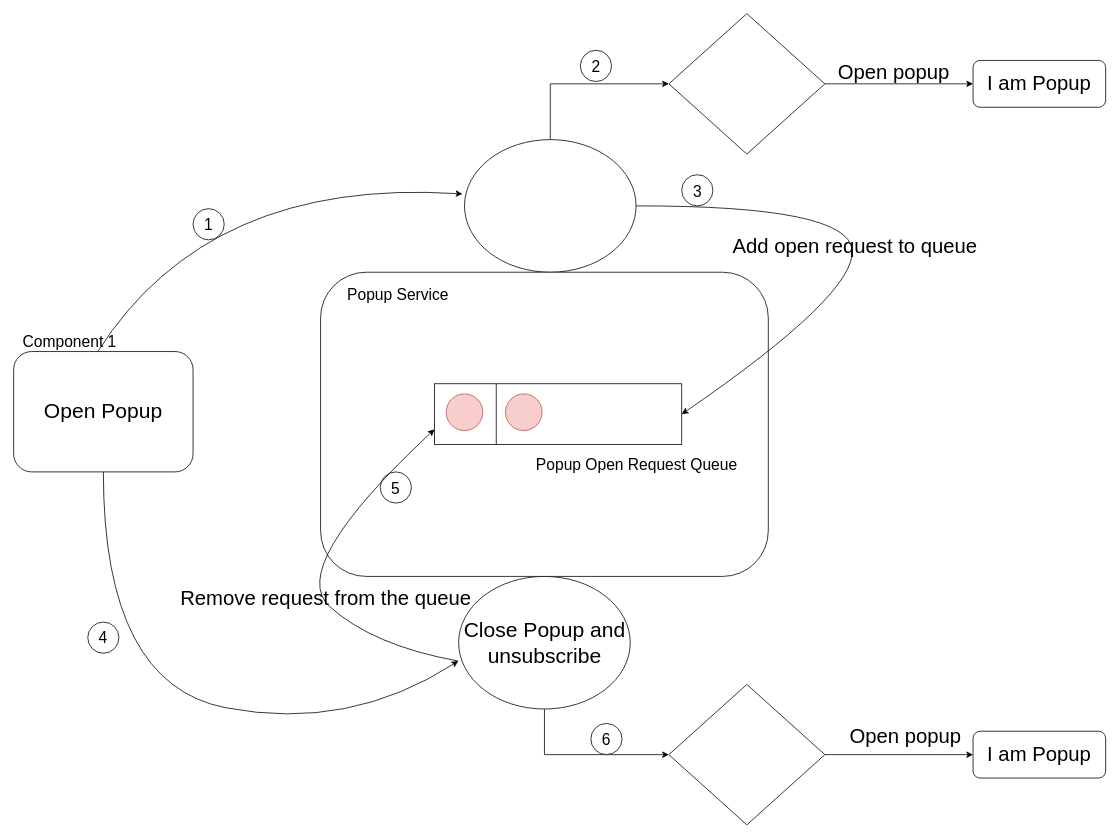
The diagram is 1119 pixels wide and 838 high, and some of its shapes have lost their labels. Each missing label, with the box of its shape:
If Queue has pending request: (668, 684, 825, 825)
If Queue is empty: (668, 13, 825, 154)
Open Popup and Subscribe: (464, 139, 636, 272)
